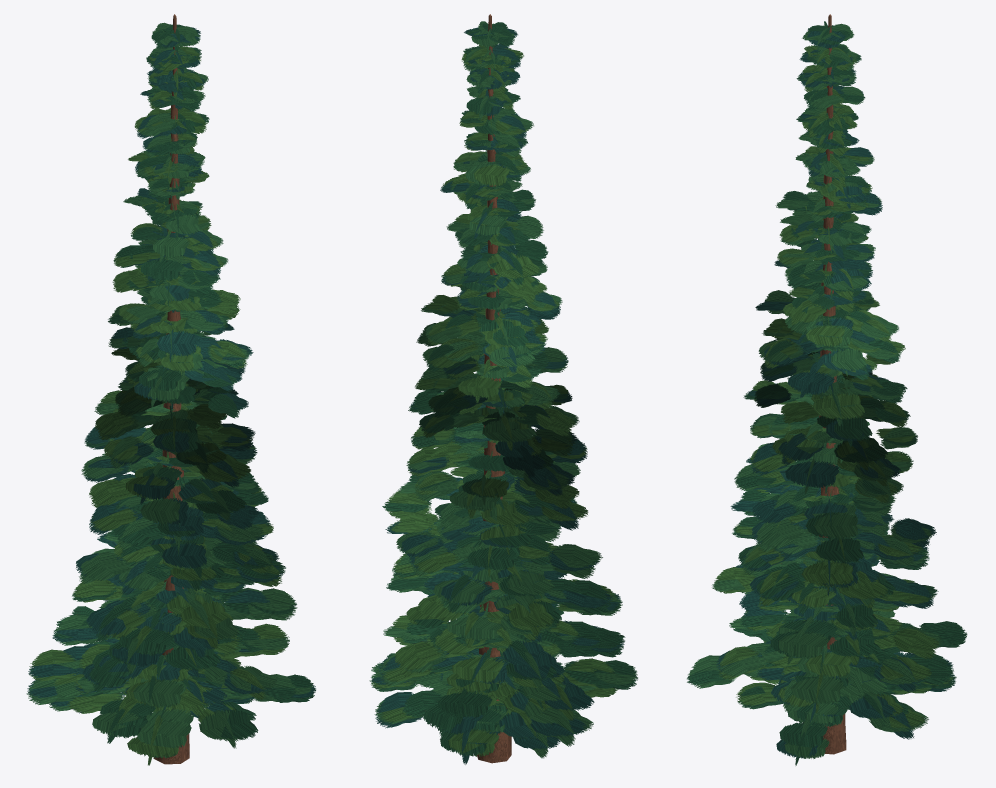
File: hero_spruce_c_lod1.obj
3 views of the same model, side by side, from view 1: azimuth 30°, elevation 25°; view 2: azimuth 150°, elevation 25°; view 3: azimuth 270°, elevation 25° (orthographic).
Visible parts, largest first — view 1: hero_spruce_c_lod1; view 2: hero_spruce_c_lod1; view 3: hero_spruce_c_lod1.
Part boxes in pixels (bbox=[...]): hero_spruce_c_lod1: bbox=[26, 14, 315, 765]; hero_spruce_c_lod1: bbox=[369, 14, 637, 764]; hero_spruce_c_lod1: bbox=[687, 14, 967, 765].
Bounding box in the file's own units: 7.27 × 19.22 × 7.22.
2 materials, 2 textured.
